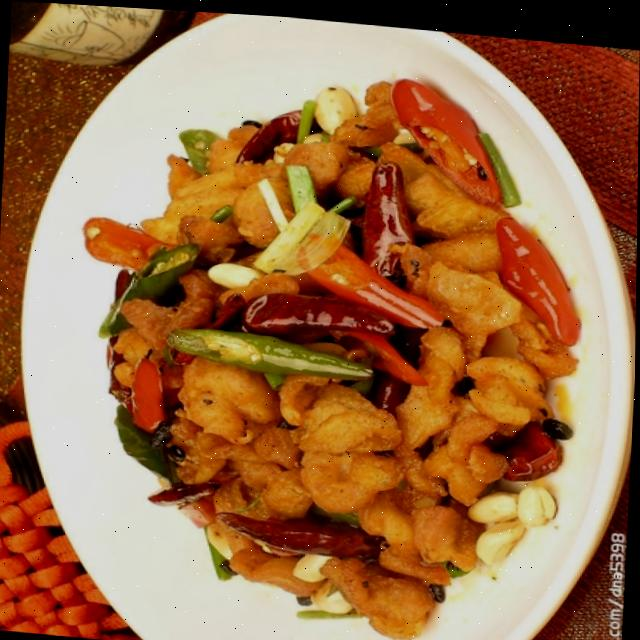鸡肉料理 含炸鸡: (22, 20, 613, 640)
